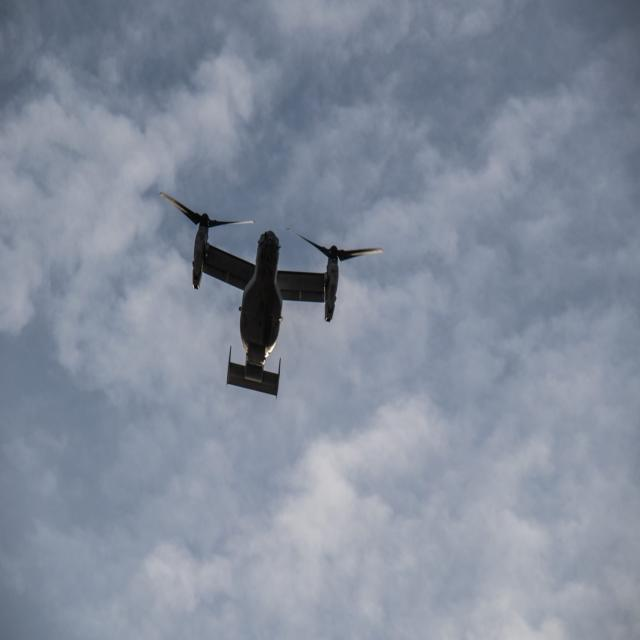drone: (156, 191, 384, 401)
